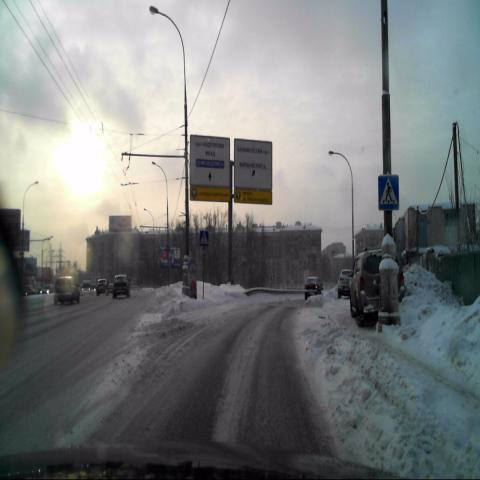4_2_3: (188, 255, 198, 274)
5_19_1: (378, 174, 399, 211), (198, 229, 208, 245)
